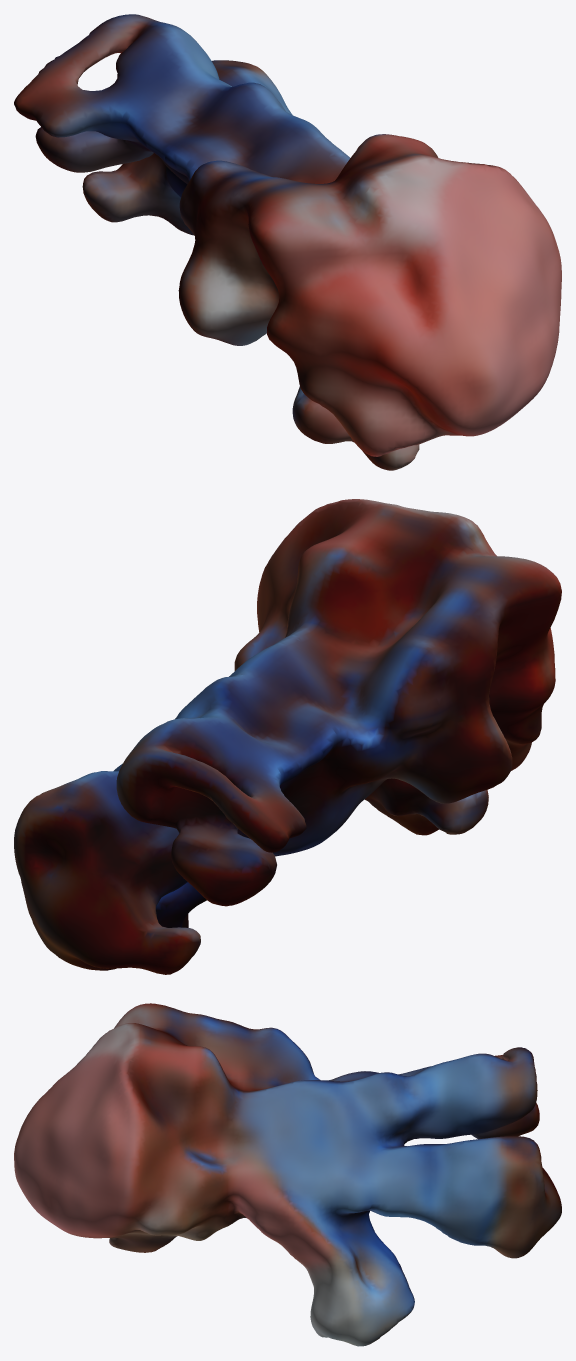
File: mario.glb
3 views of the same model, one above another, from view 1: azimuth 30°, elevation 25°; view 2: azimuth 150°, elevation 25°; view 3: azimuth 270°, elevation 25° (orthographic). The views are drawn at different scales.
Bounding box in the file's own units: 0.5053 × 0.5292 × 0.9993.
